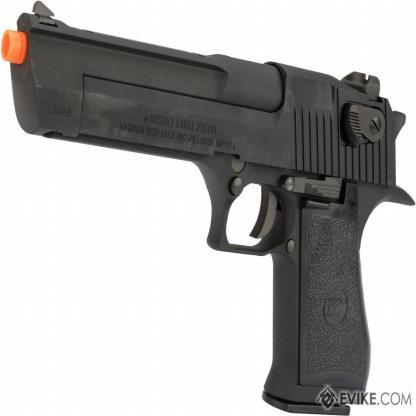Pistol: (1, 0, 415, 416)
